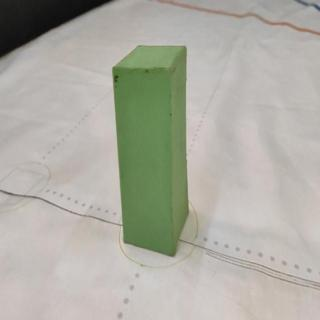greenbox: (113, 44, 188, 259)
